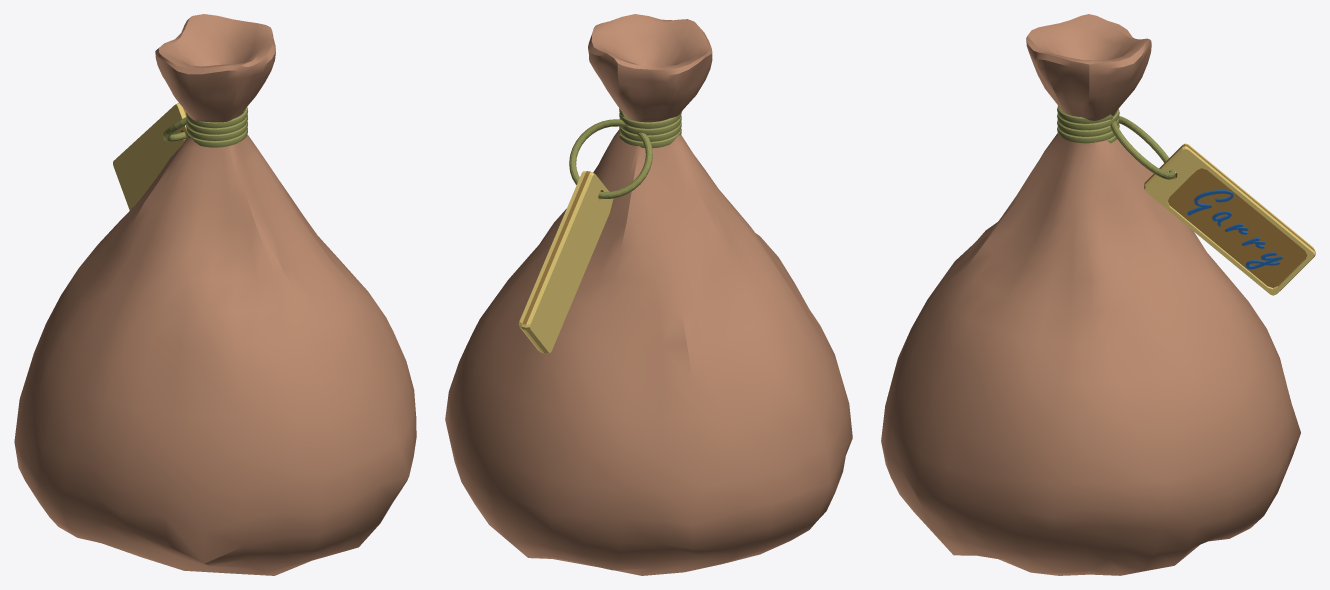
Rendered from worek orzeszkow.fbx.
3 renders of one model, left to right at view 1: azimuth 30°, elevation 25°; view 2: azimuth 150°, elevation 25°; view 3: azimuth 270°, elevation 25°, orthographic.
Visible parts, largest first — view 1: Cube.001, Plane; view 2: Cube.001, Plane, Circle; view 3: Cube.001, Plane, Text, Circle.
Boxes of the visible parts, x1,y1,x2,y2 form: Cube.001: [14, 14, 416, 575]; Plane: [113, 103, 186, 210]; Cube.001: [445, 14, 852, 575]; Plane: [518, 171, 613, 353]; Circle: [569, 119, 652, 198]; Cube.001: [881, 14, 1300, 575]; Plane: [1144, 143, 1315, 295]; Text: [1187, 190, 1282, 269]; Circle: [1110, 116, 1175, 179].
Bounding box in the file's own units: 245 × 330 × 258.
